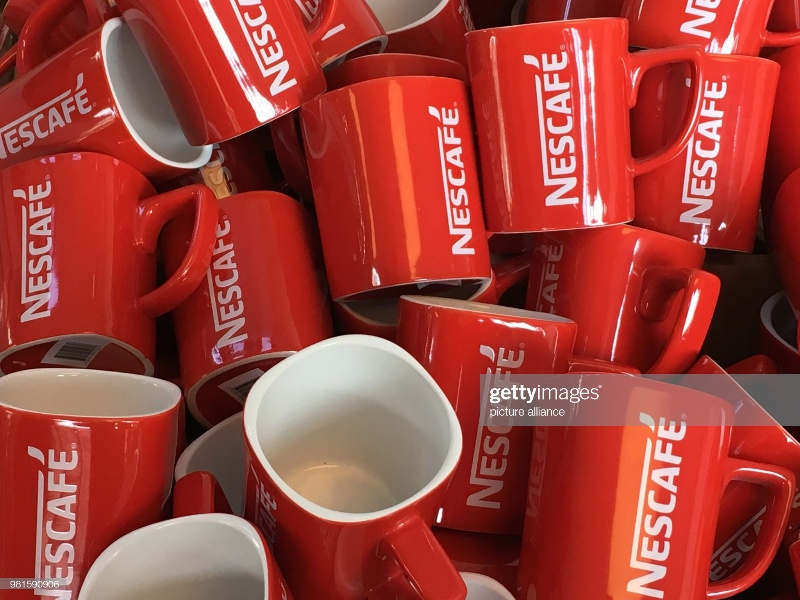nescafe-classic/gold-med: (522, 394, 788, 592), (468, 16, 693, 227), (4, 336, 167, 596), (326, 83, 478, 320), (1, 164, 193, 342), (178, 176, 307, 406), (411, 286, 525, 531)
